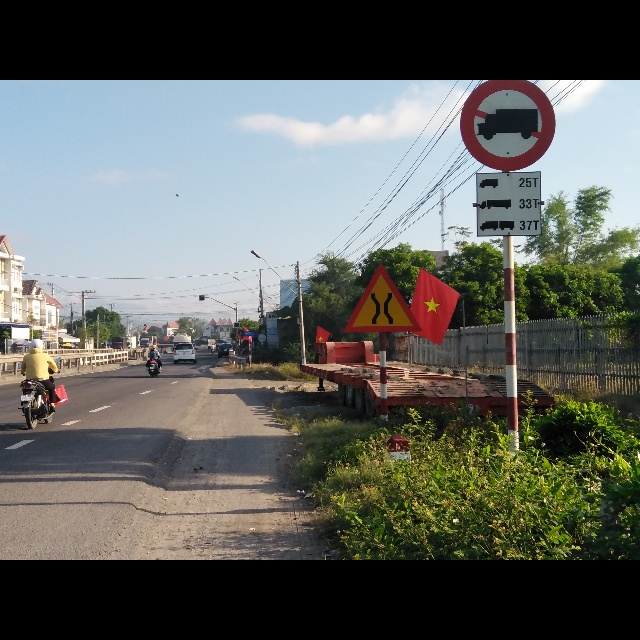Cấm xe tải: (460, 81, 554, 173)
Cầu hẹp: (343, 259, 423, 333)
